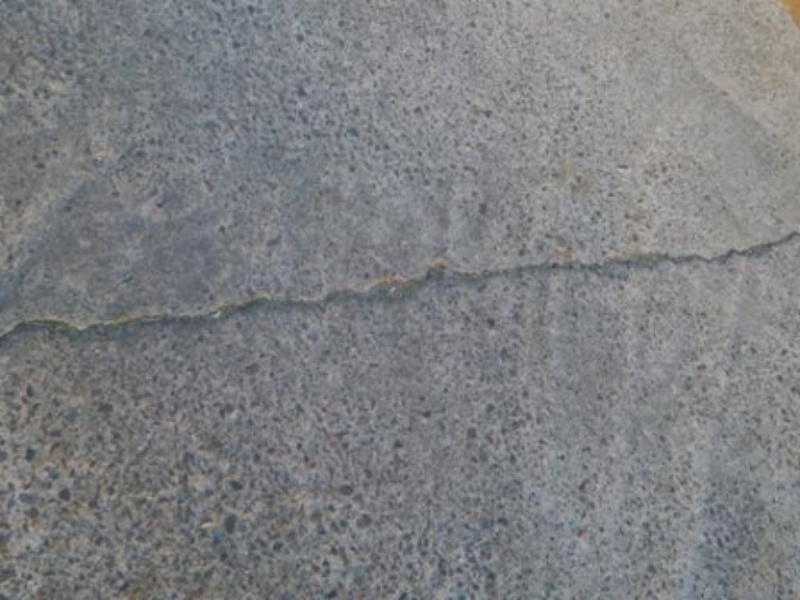crack: (8, 218, 788, 404)
